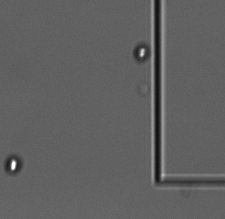Living Cell: (131, 42, 151, 61), (4, 154, 22, 175)
